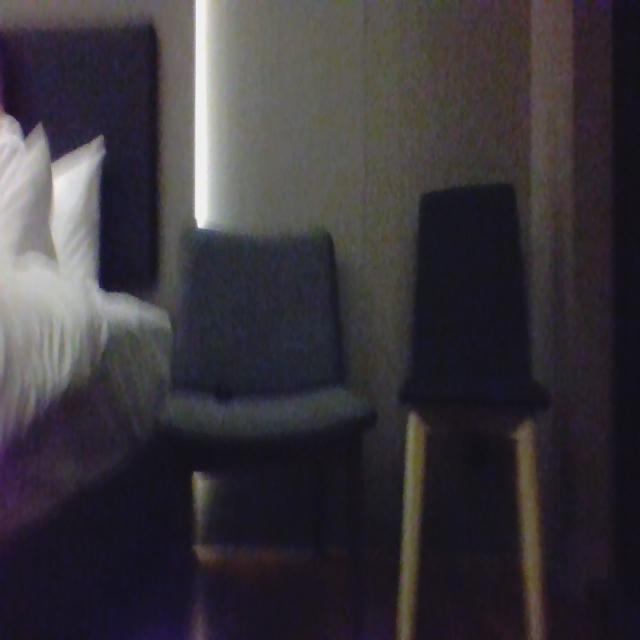empty: (170, 223, 354, 422), (416, 180, 526, 400)
